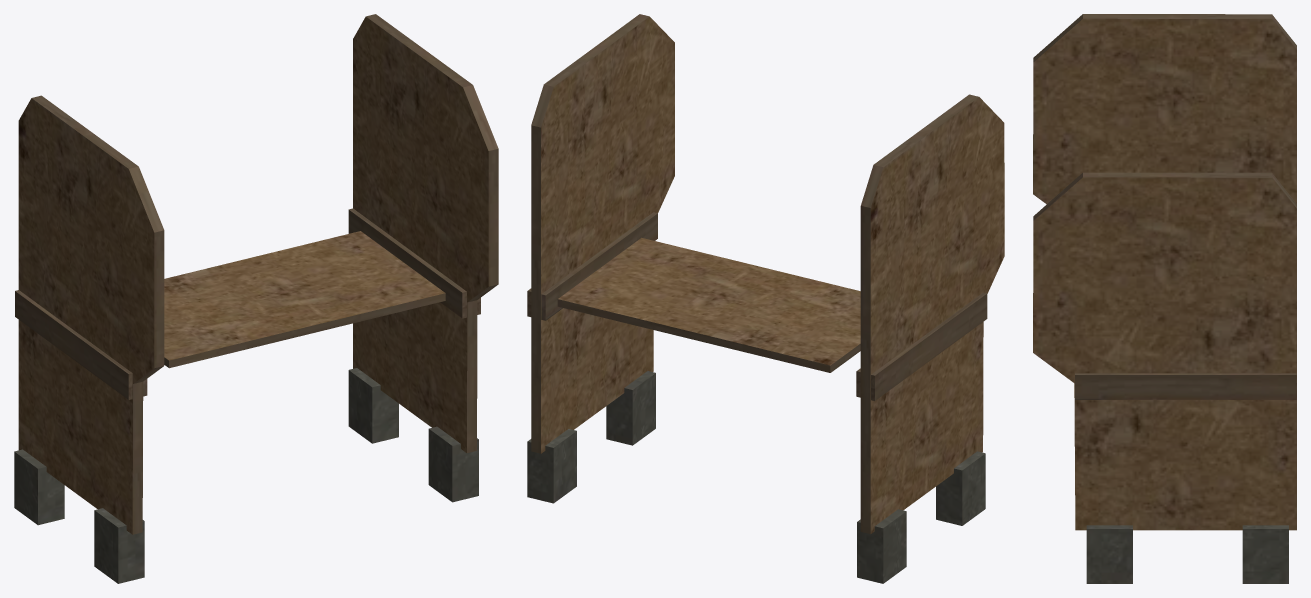
Rendered from range-booth.lod0.glb.
3 views of the same model, side by side, from view 1: azimuth 30°, elevation 25°; view 2: azimuth 150°, elevation 25°; view 3: azimuth 270°, elevation 25° (orthographic). The views are drawn at different scales.
Parts seen in each view (by area): view 1: Object_20; view 2: Object_20; view 3: Object_20.
Boxes of the visible parts, x1,y1,x2,y2 form: Object_20: (14,14,498,583); Object_20: (527,14,1004,583); Object_20: (1033,14,1296,583).
Bounding box in the file's own units: 1.05 × 1.15 × 0.6826.
Materials: 1 (1 with a texture image).
